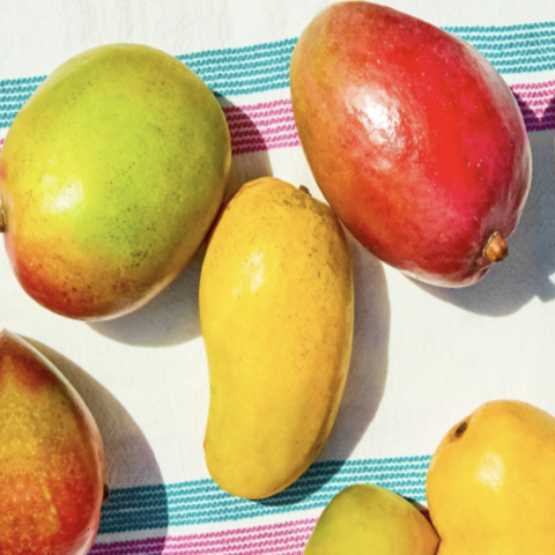mango: (263, 0, 555, 355), (0, 11, 263, 385), (163, 140, 392, 528)
